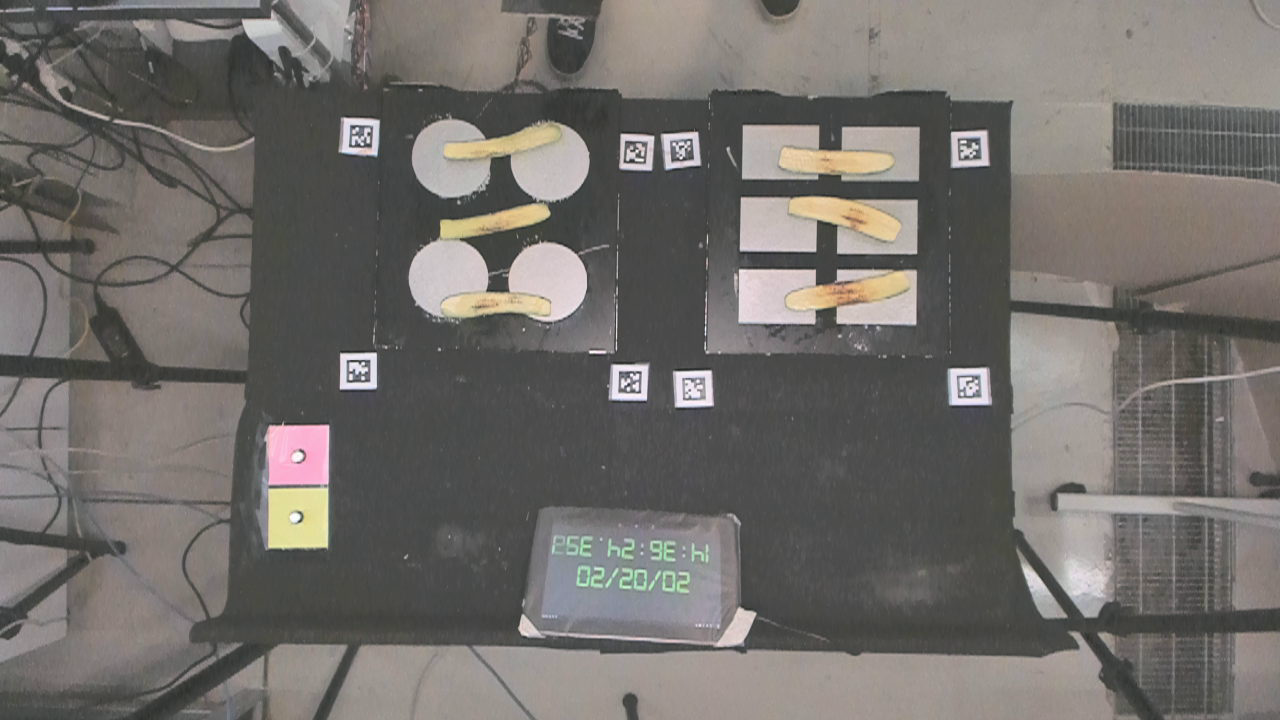marker: (265, 423, 330, 487)
zucchini: (782, 194, 906, 242), (782, 272, 916, 313), (442, 118, 563, 160), (431, 198, 554, 237), (774, 142, 904, 175), (438, 288, 555, 321)
